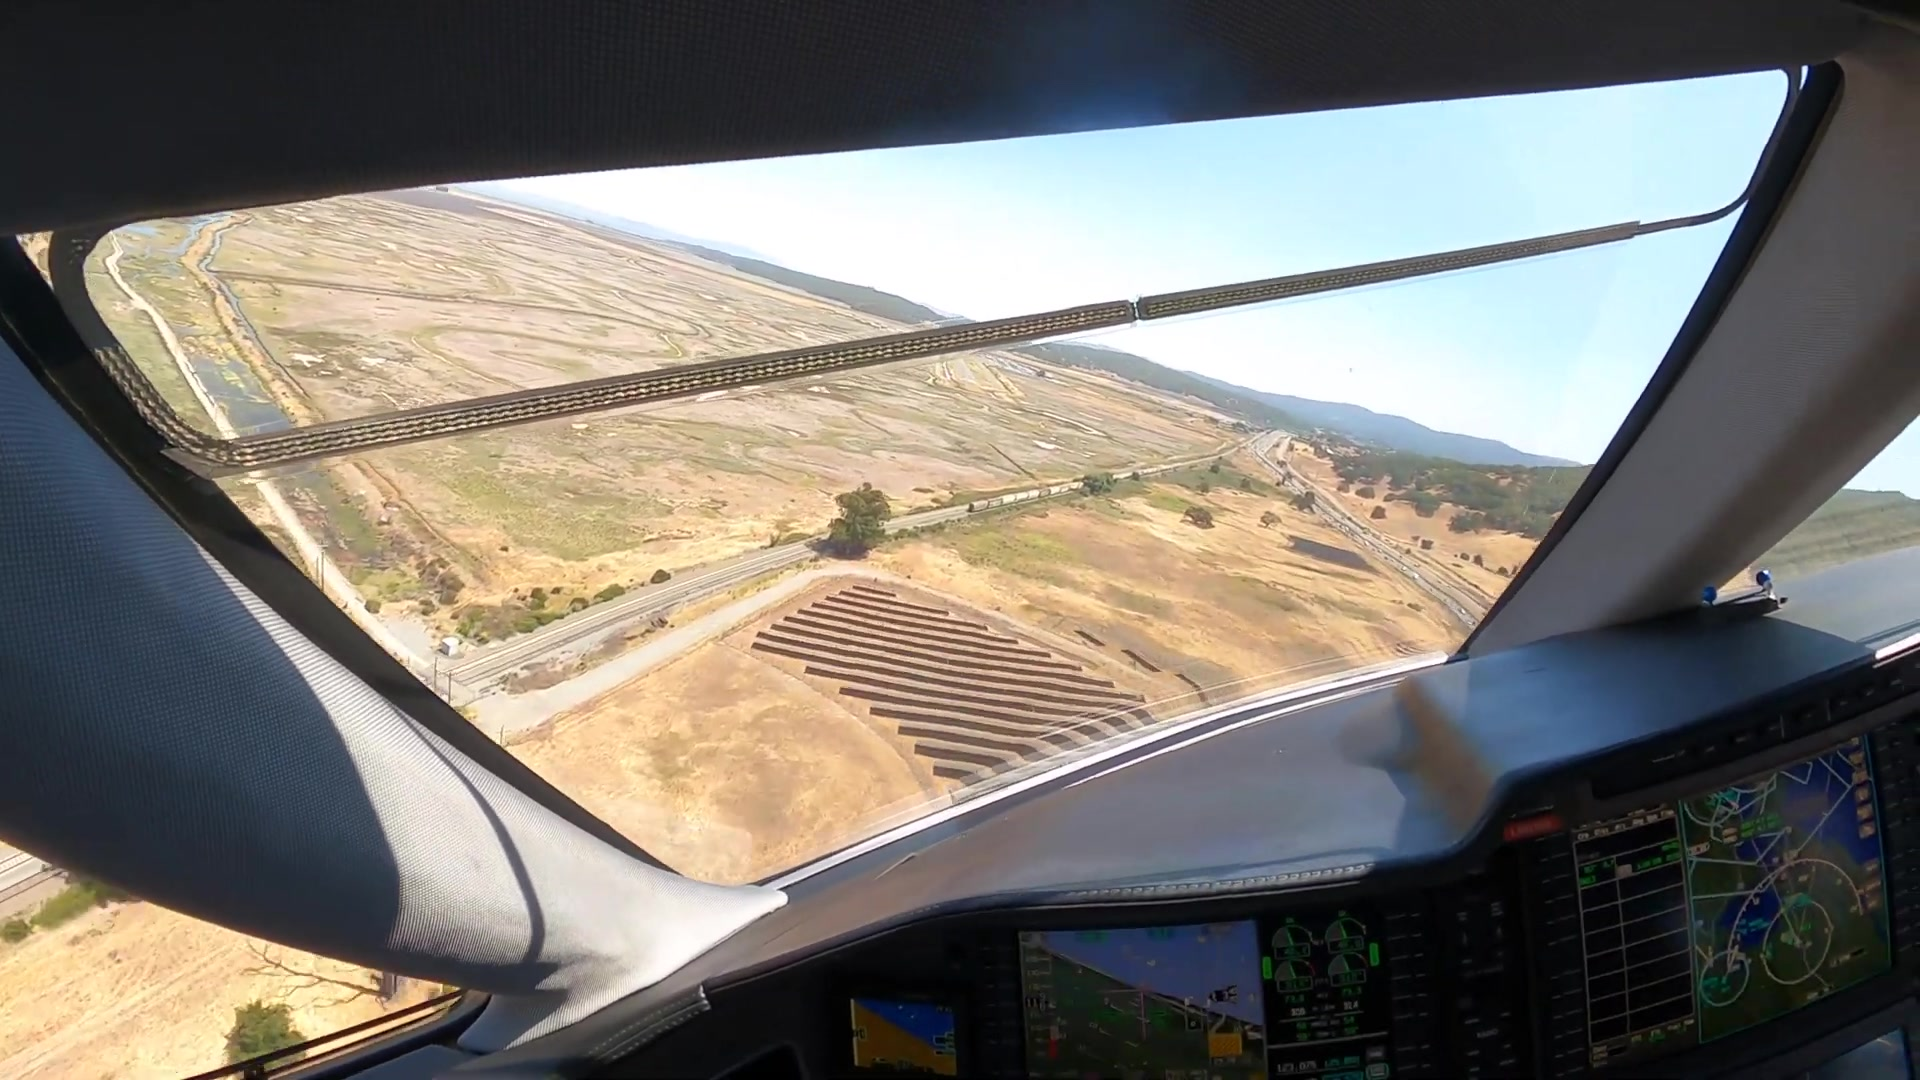runway: (955, 360, 978, 384)
